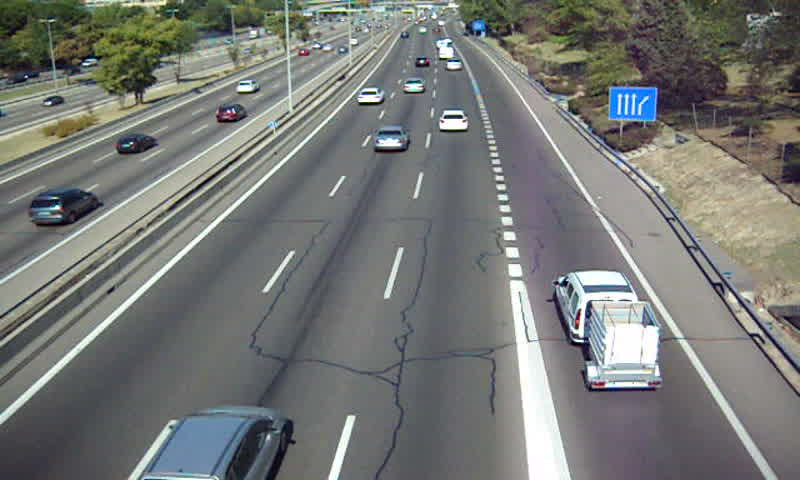car: (144, 407, 285, 480), (373, 126, 409, 151), (438, 110, 469, 131), (356, 87, 383, 106), (402, 78, 427, 94), (446, 58, 464, 72)
van: (553, 271, 637, 344)
